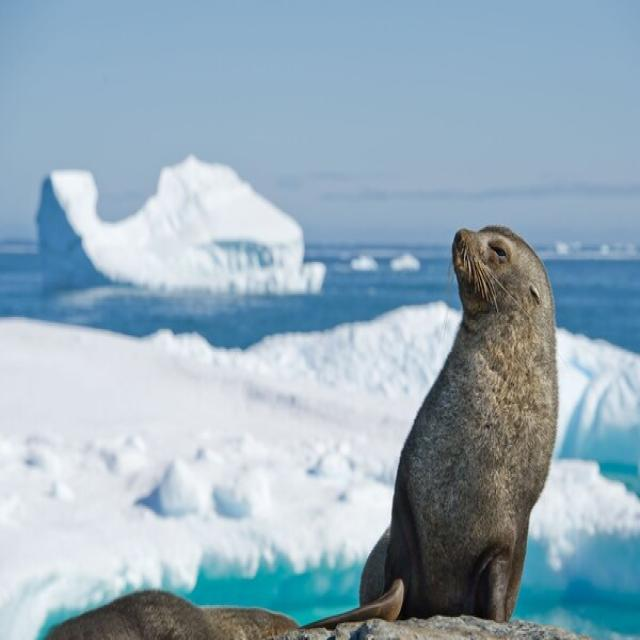WaterDog: (356, 220, 562, 620)
